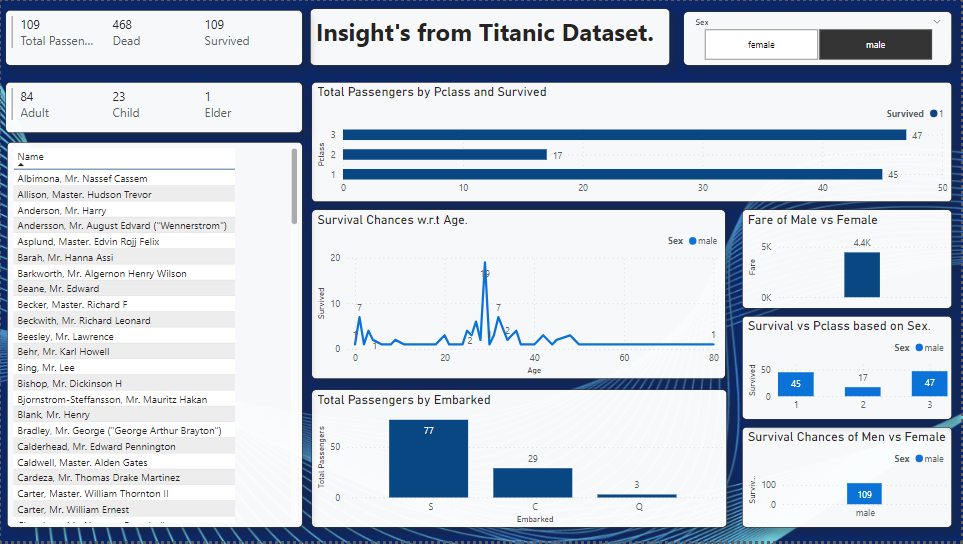

This screenshot's page, from the dashboard's own definition file:
{"tool":"powerbi","page":{"name":"Page 1","canvas":[1280,720],"ordinal":0},"visuals":[{"type":"textbox","box":[412,10,480,76],"z":0},{"type":"slicer","fields":{"Values":["Final_titanic_dataset_powerbi.Sex"]},"box":[910,14,358,72],"z":1000},{"type":"barChart","fields":{"Y":["Table.Total Passengers"],"Category":["Final_titanic_dataset_powerbi.Pclass"],"Series":["Final_titanic_dataset_powerbi.Survived"]},"box":[414,108,854,160],"z":2000},{"type":"multiRowCard","fields":{"Values":["Table.Adult","Table.Child","Table.Elder"]},"box":[6,108,396,68],"z":3000},{"type":"multiRowCard","fields":{"Values":["Table.Total Passengers","Table.Dead","Table.Survived"]},"box":[6,12,396,74],"z":4000},{"type":"columnChart","title":"Survival Chances of Men  vs Female","fields":{"Y":["Table.Survived"],"Category":["Final_titanic_dataset_powerbi.Sex"],"Series":["Final_titanic_dataset_powerbi.Sex"]},"box":[988,568,280,134],"z":5000},{"type":"columnChart","title":"Fare of Male vs Female","fields":{"Y":["Final_titanic_dataset_powerbi.Fare"],"Category":["Final_titanic_dataset_powerbi.Sex"]},"box":[988,278,280,132],"z":6000},{"type":"lineChart","title":"Survival Chances w.r.t Age.","fields":{"Category":["Final_titanic_dataset_powerbi.Age"],"Y":["Final_titanic_dataset_powerbi.Survived"],"Series":["Final_titanic_dataset_powerbi.Sex"]},"box":[414,278,552,226],"z":7000},{"type":"columnChart","fields":{"Category":["Final_titanic_dataset_powerbi.Embarked"],"Y":["Table.Total Passengers"]},"box":[414,518,554,184],"z":8000},{"type":"columnChart","title":"Survival vs Pclass based on Sex.","fields":{"Y":["Final_titanic_dataset_powerbi.Survived"],"Series":["Final_titanic_dataset_powerbi.Sex"],"Category":["Final_titanic_dataset_powerbi.Pclass"]},"box":[988,420,280,138],"z":9000},{"type":"tableEx","title":"Survival List.","fields":{"Values":["Final_titanic_dataset_powerbi.Name"]},"box":[8,188,394,514],"z":11000}]}

Visuals, with their boxes in screenshot pixels (x1, y1, x2, y2), scaled from the page's 1280x720 canvas onto the 963x544 screenshot:
textbox: 310, 8, 671, 65
slicer - Final_titanic_dataset_powerbi.Sex: 685, 11, 954, 65
barChart - Table.Total Passengers x Final_titanic_dataset_powerbi.Pclass: 311, 82, 954, 202
multiRowCard - Table.Adult x Table.Child: 5, 82, 302, 133
multiRowCard - Table.Total Passengers x Table.Dead: 5, 9, 302, 65
"Survival Chances of Men  vs Female" columnChart: 743, 429, 954, 530
"Fare of Male vs Female" columnChart: 743, 210, 954, 310
"Survival Chances w.r.t Age." lineChart: 311, 210, 727, 381
columnChart - Final_titanic_dataset_powerbi.Embarked x Table.Total Passengers: 311, 391, 728, 530
"Survival vs Pclass based on Sex." columnChart: 743, 317, 954, 422
"Survival List." tableEx: 6, 142, 302, 530
